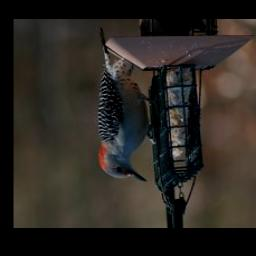Woodpecker: (97, 27, 160, 186)
